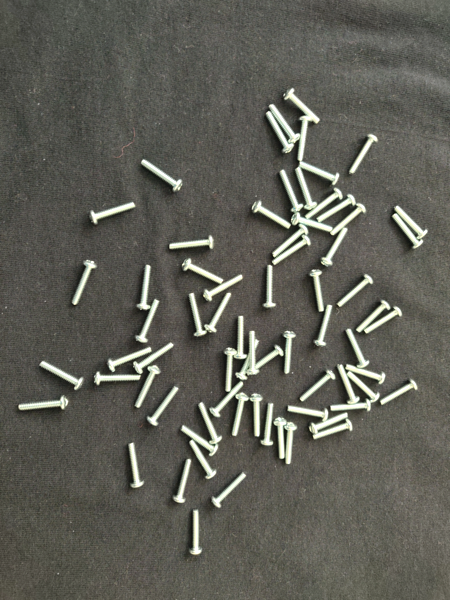longscrew: (140, 159, 184, 195), (282, 87, 321, 125), (210, 472, 247, 510), (271, 223, 310, 259), (39, 361, 84, 392), (268, 103, 302, 144), (70, 260, 99, 308), (133, 342, 175, 375), (209, 381, 246, 418), (335, 273, 375, 307), (304, 187, 345, 220), (146, 386, 179, 427), (355, 299, 392, 335), (251, 200, 292, 232), (265, 111, 295, 154), (330, 203, 369, 236), (391, 212, 424, 251), (180, 425, 219, 458), (181, 258, 225, 287), (348, 134, 379, 175), (106, 346, 153, 373), (316, 193, 358, 223), (393, 205, 429, 240), (133, 299, 161, 344), (88, 201, 136, 227), (134, 365, 162, 409), (271, 235, 312, 265), (299, 369, 336, 402), (204, 292, 233, 334), (320, 227, 350, 267), (364, 305, 404, 335), (202, 274, 244, 302), (342, 327, 370, 369), (345, 371, 381, 403), (278, 169, 304, 213), (189, 440, 217, 480), (298, 160, 340, 186), (235, 339, 261, 381), (197, 402, 223, 444), (294, 166, 318, 211), (380, 379, 420, 406), (290, 212, 334, 235), (168, 233, 216, 254), (186, 293, 208, 338), (171, 458, 192, 505), (337, 364, 361, 405), (312, 304, 334, 348), (312, 418, 354, 441), (309, 412, 349, 435), (296, 114, 315, 162), (346, 363, 387, 385), (230, 392, 250, 437), (134, 264, 153, 311), (127, 442, 146, 489), (18, 395, 70, 412), (253, 344, 285, 371), (308, 269, 327, 313), (187, 508, 204, 556), (231, 315, 249, 360), (93, 370, 142, 386), (287, 404, 329, 422), (262, 264, 278, 309), (281, 330, 297, 375), (283, 421, 299, 465), (259, 401, 274, 447), (330, 398, 373, 414), (249, 393, 264, 437), (221, 348, 236, 391), (273, 417, 288, 460), (246, 331, 260, 376)
